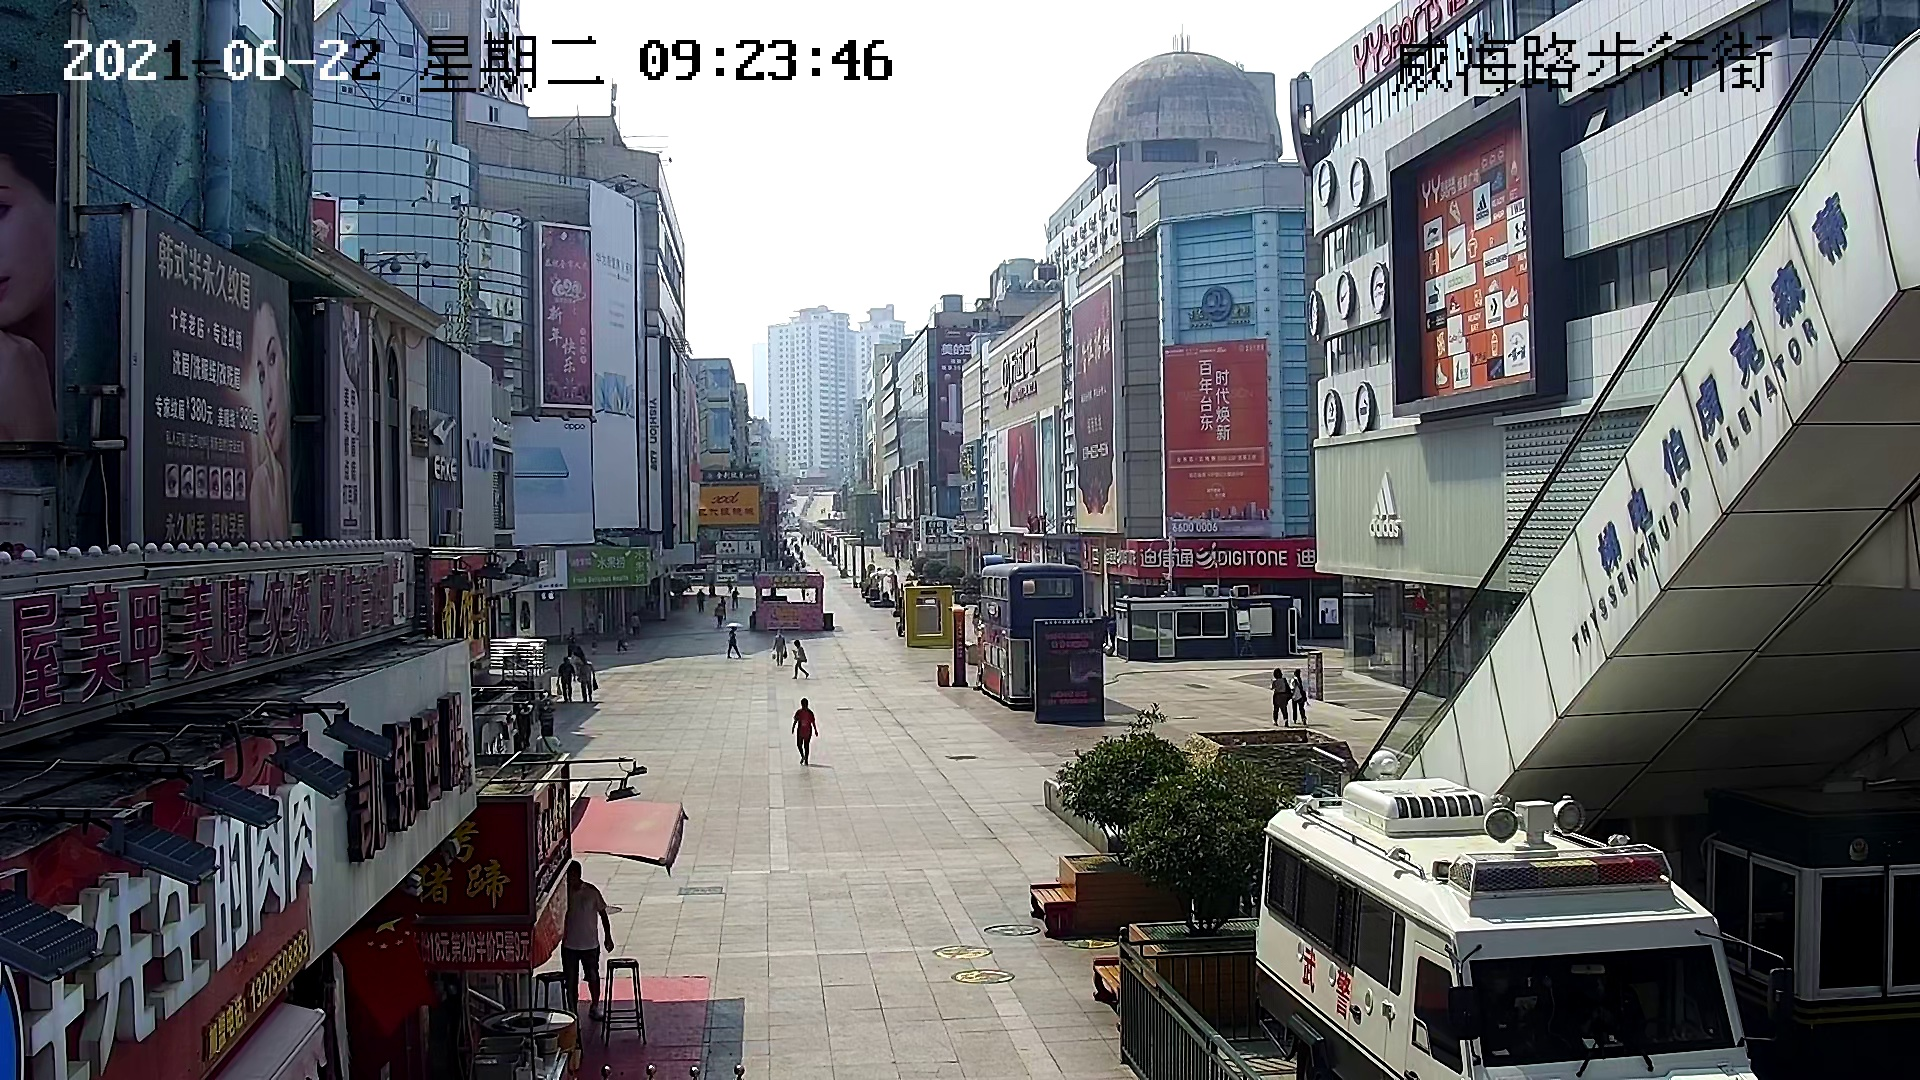chair: (597, 956, 647, 1047), (533, 971, 568, 1010)
